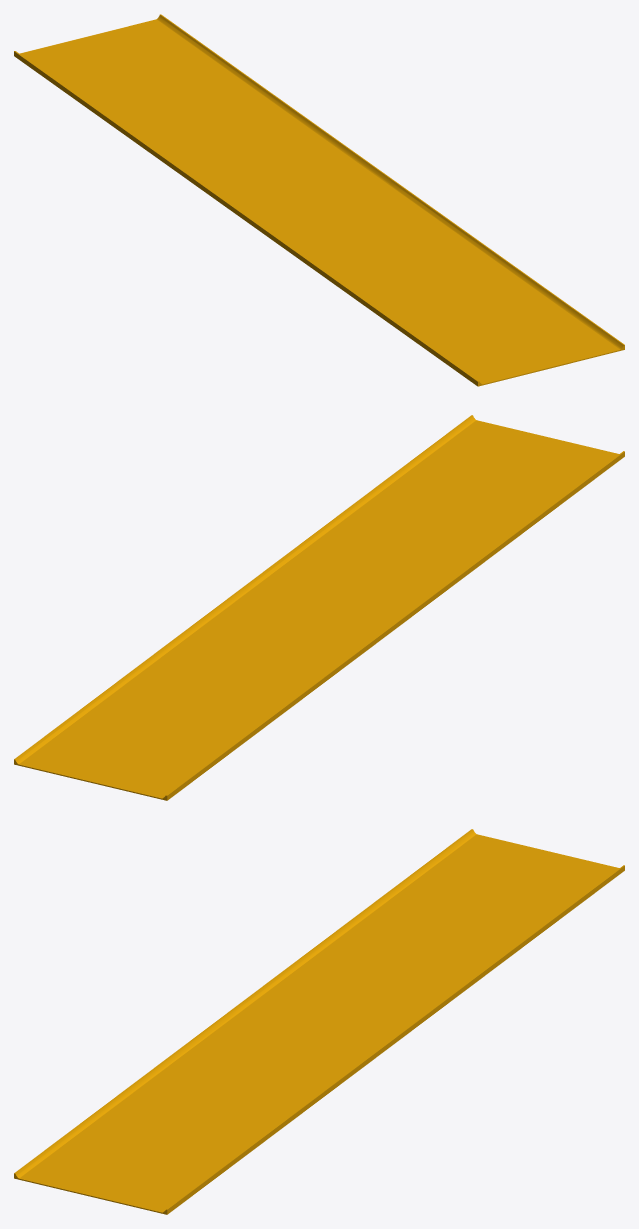
The model's file is 14mTrack_Blockout_LongStraight.fbx.
3 renders of one model, top to bottom at view 1: azimuth 30°, elevation 25°; view 2: azimuth 150°, elevation 25°; view 3: azimuth 330°, elevation 25°, orthographic. The views are drawn at different scales.
Visible parts, largest first — view 1: polySurface115; view 2: polySurface115; view 3: polySurface115.
Boxes of the visible parts, x1,y1,x2,y2 form: polySurface115: [14, 14, 624, 386]; polySurface115: [14, 415, 624, 800]; polySurface115: [14, 829, 624, 1214].
Size of the model in its own units: 1487 by 45 by 7462.
